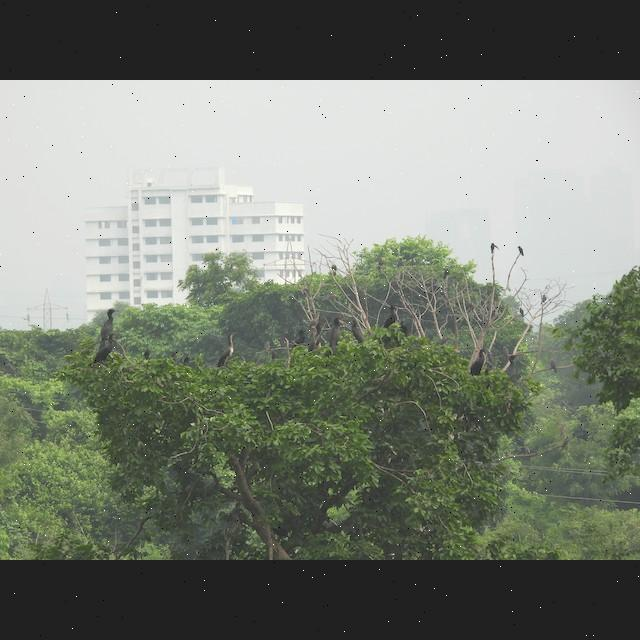cormorant: (217, 329, 241, 367), (92, 332, 120, 364), (468, 347, 494, 377), (328, 317, 346, 353), (99, 306, 121, 330), (381, 304, 399, 328), (352, 318, 366, 346)
